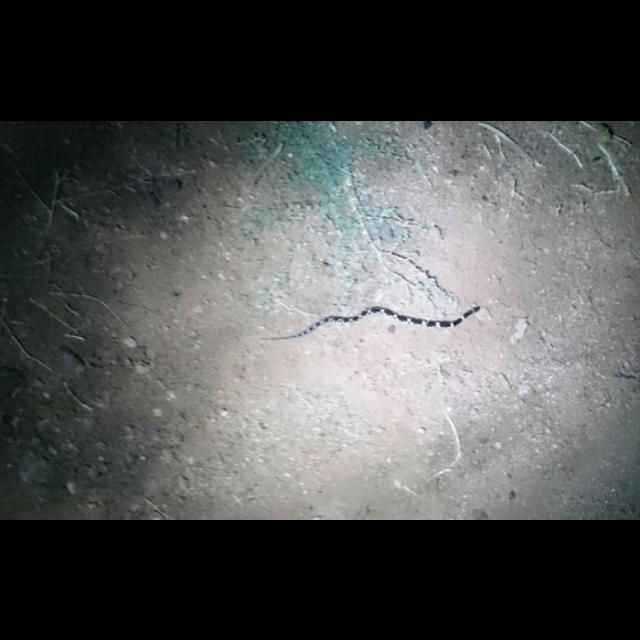snake: (263, 300, 483, 350)
